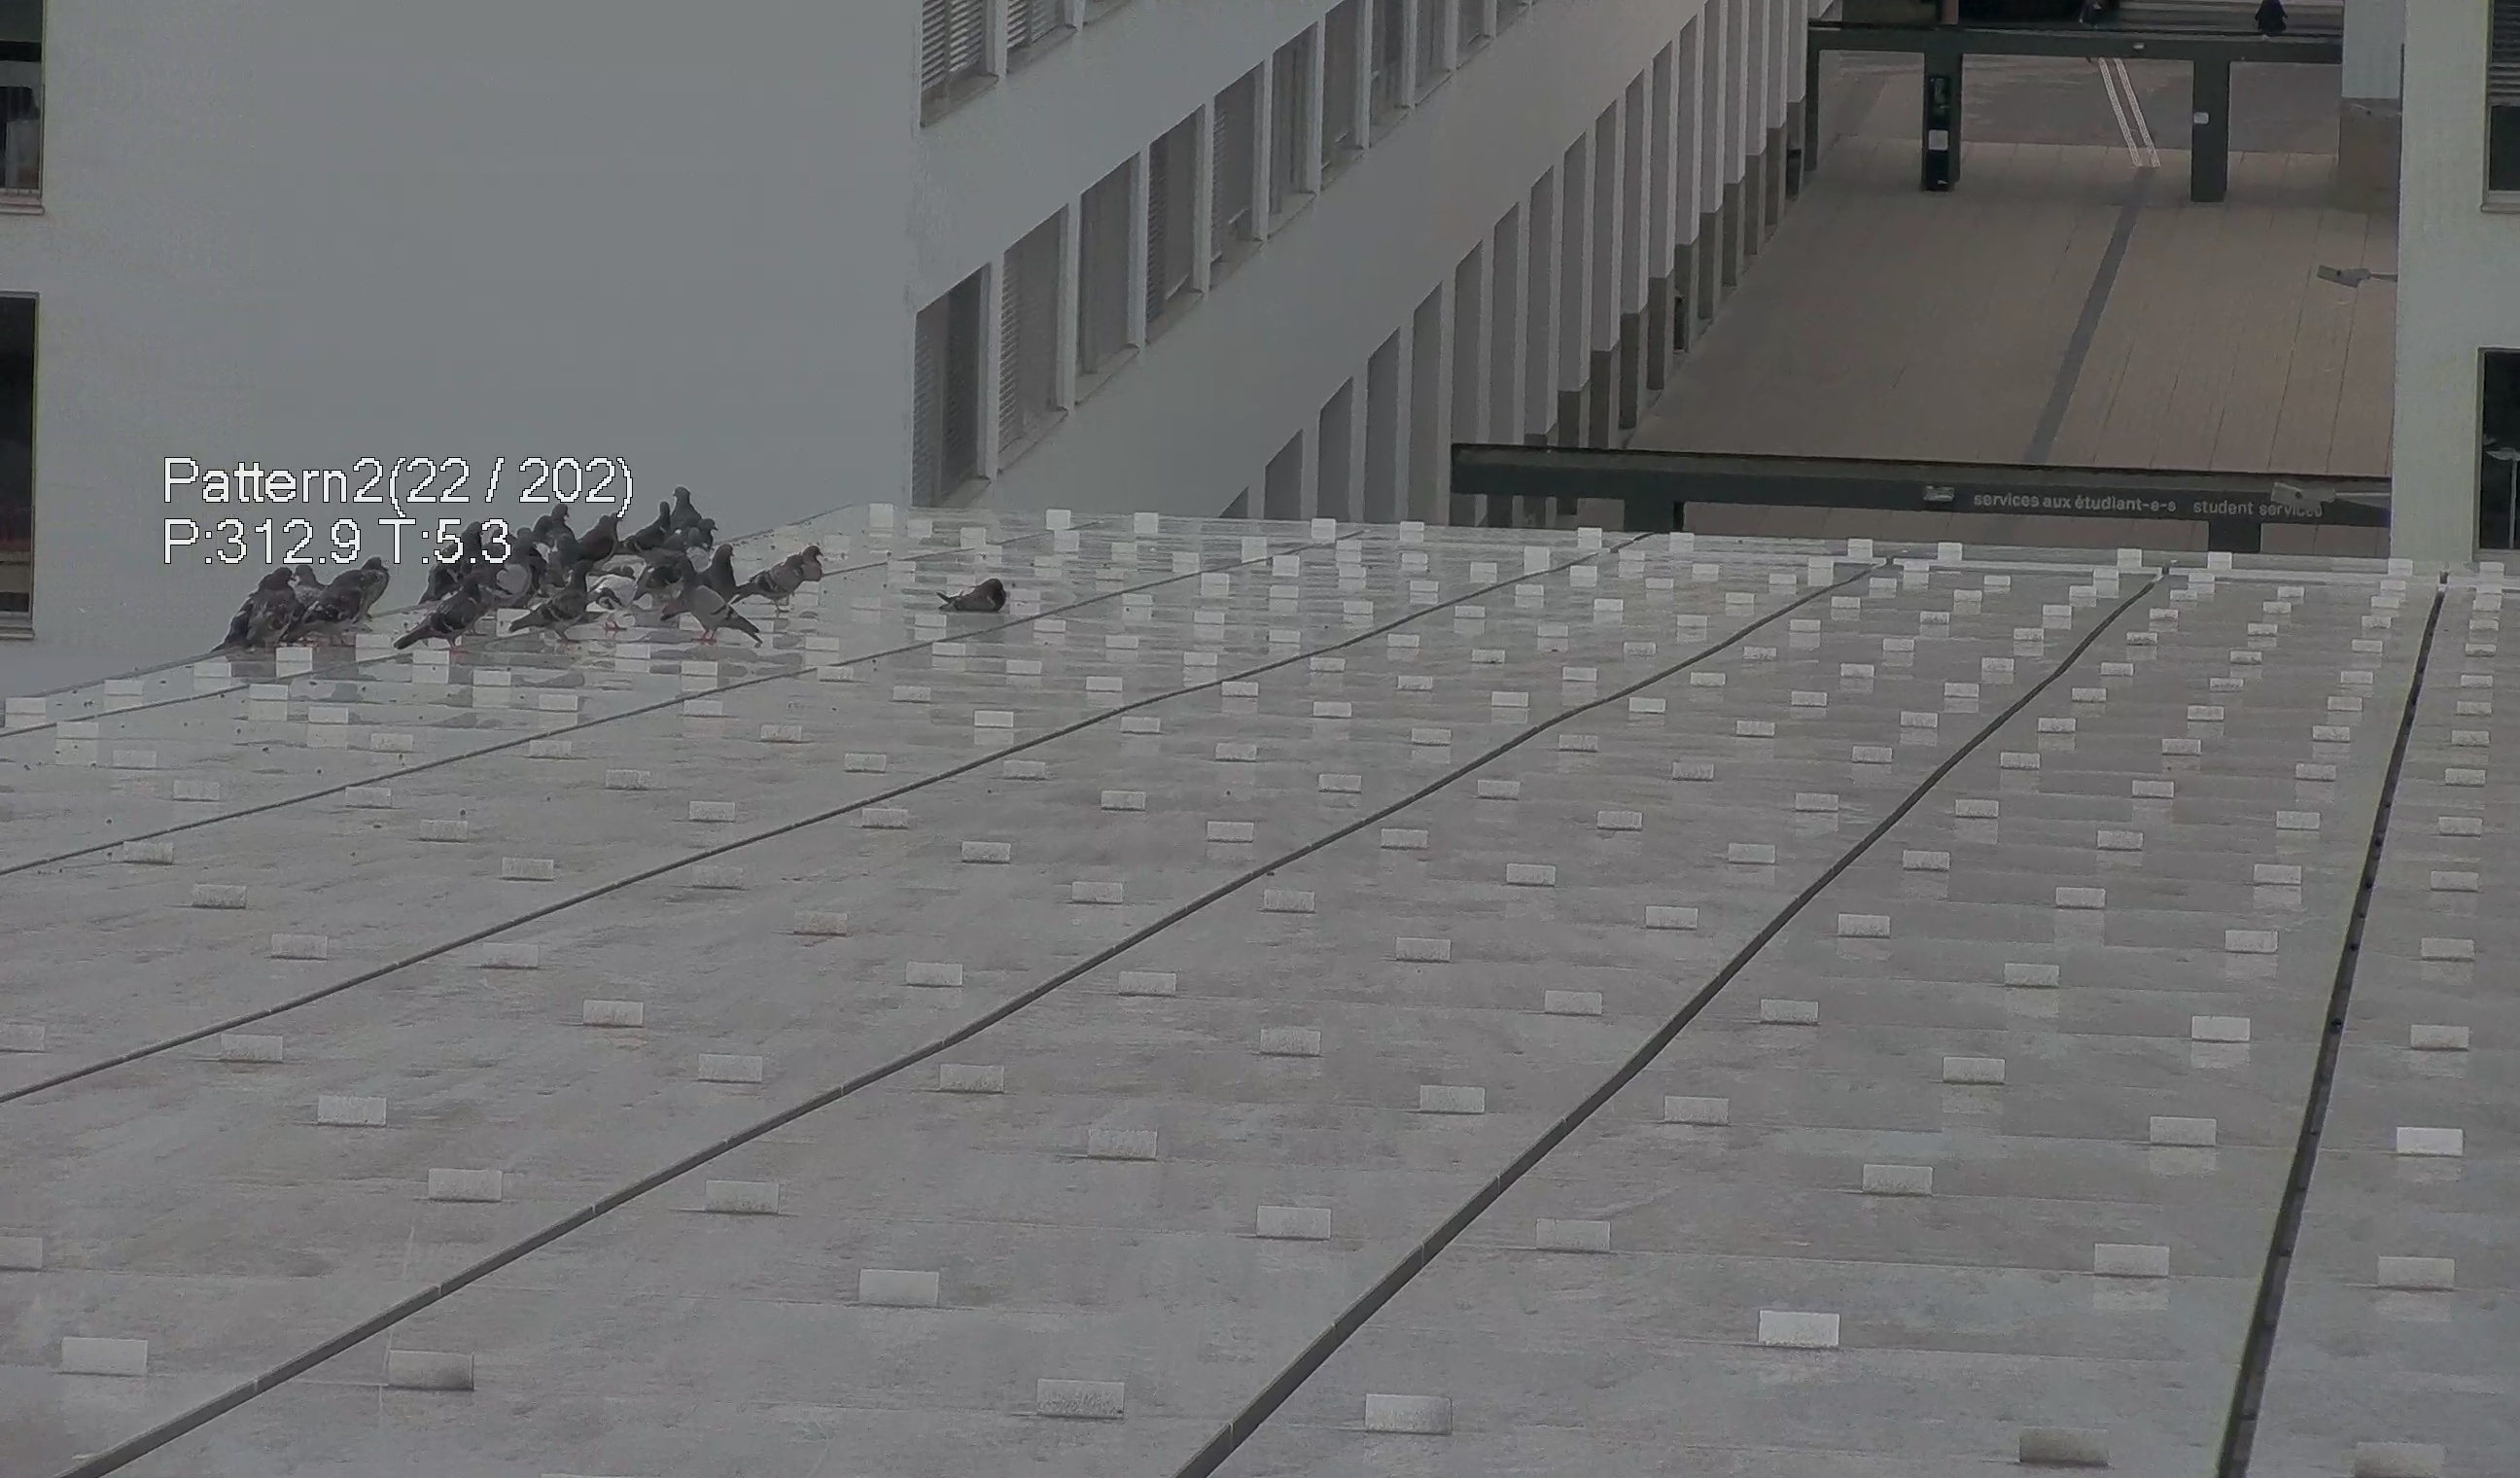Pigeon: (218, 561, 299, 662), (397, 574, 485, 651), (290, 563, 373, 644), (512, 563, 600, 635), (682, 574, 761, 653), (420, 519, 485, 600), (740, 551, 805, 611), (944, 570, 1022, 618), (584, 561, 644, 618), (695, 542, 744, 604), (580, 512, 638, 563), (672, 475, 709, 531), (790, 544, 823, 589), (682, 519, 725, 551), (545, 505, 573, 544)
